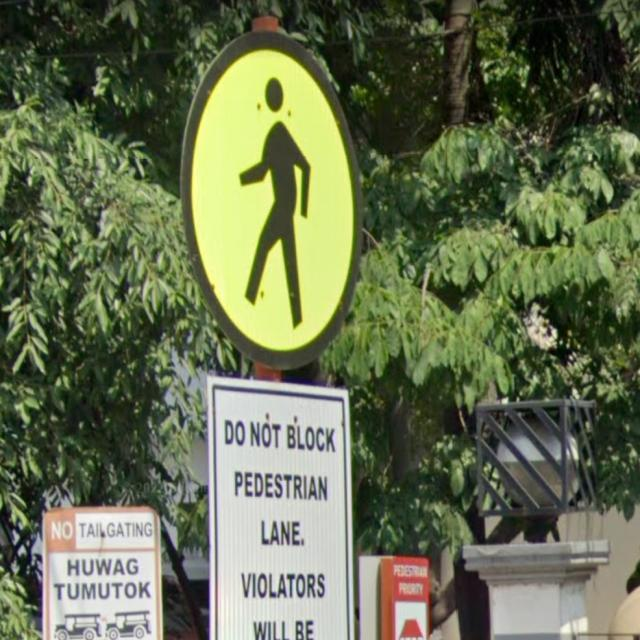pedestrian crossing: (179, 31, 363, 364)
